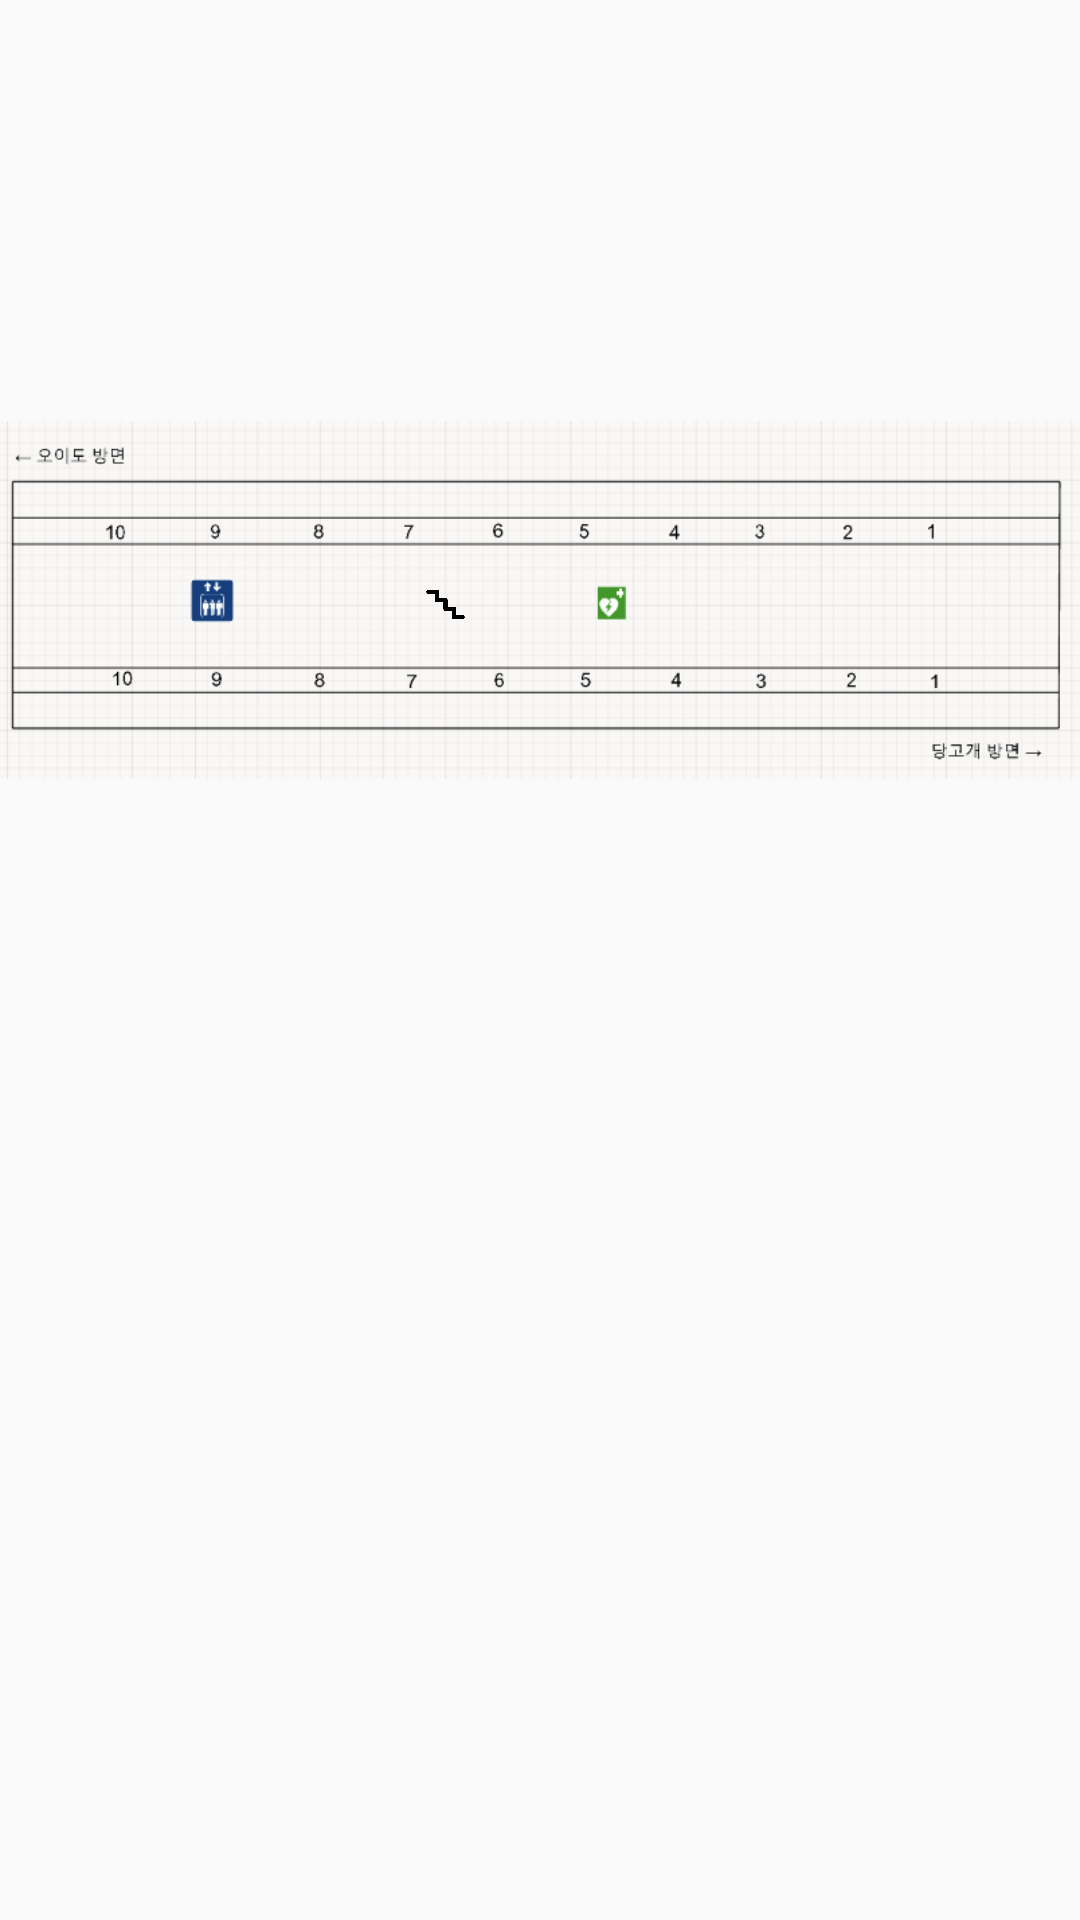

Named icons in this screenshot (1080px×1920px) and their centers, (x,y):
rstairs: (445,604)
